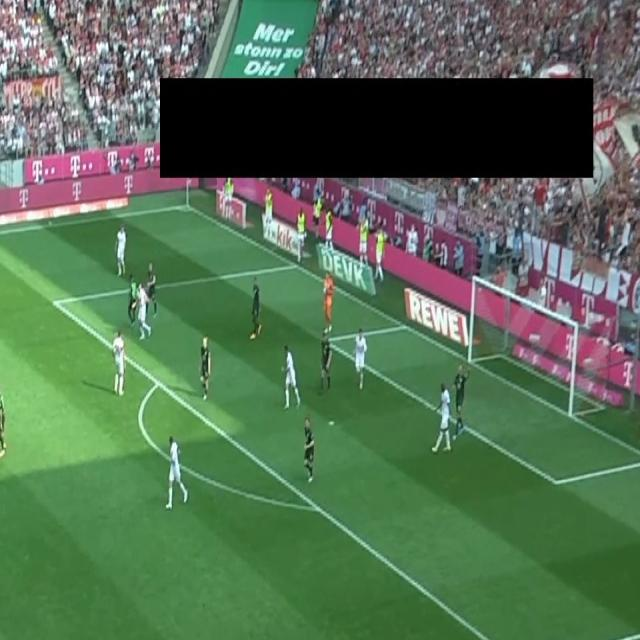ball: (322, 284, 328, 295)
